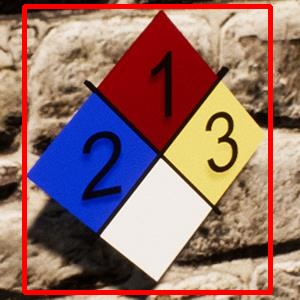nfpa: (24, 6, 270, 292)
